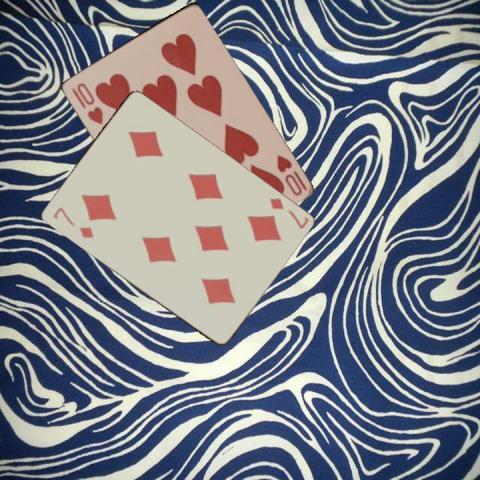10h: (68, 79, 104, 127), (273, 152, 308, 198)
7d: (50, 204, 96, 240), (266, 194, 310, 230)
